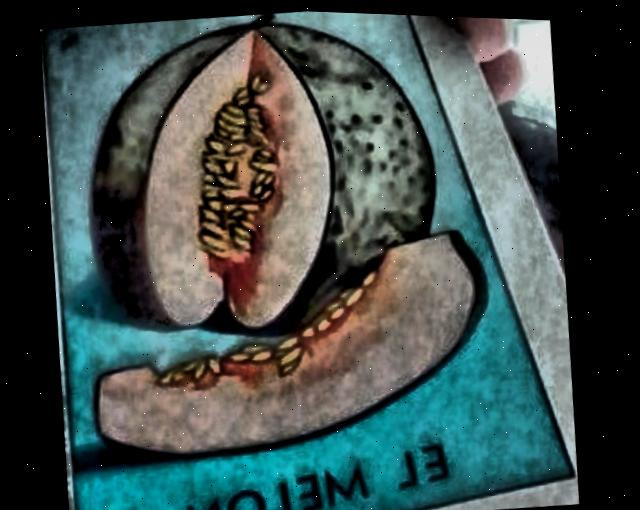El Melon: (41, 9, 574, 510)
